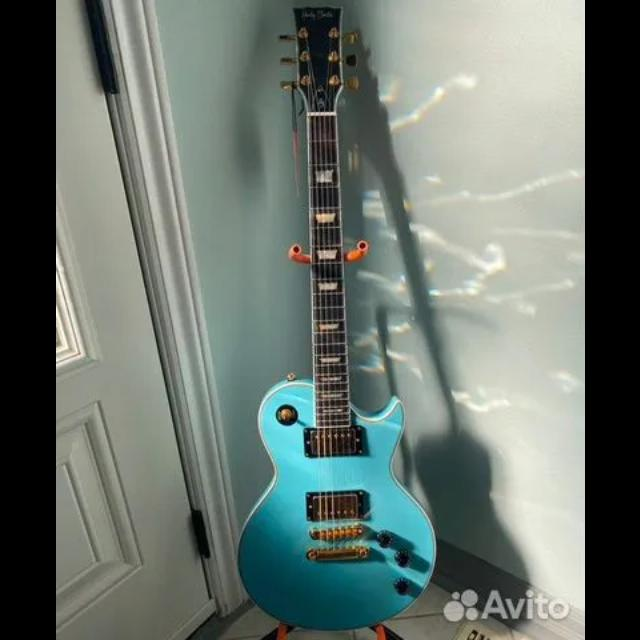Electric-Guitar: (237, 8, 435, 630)
